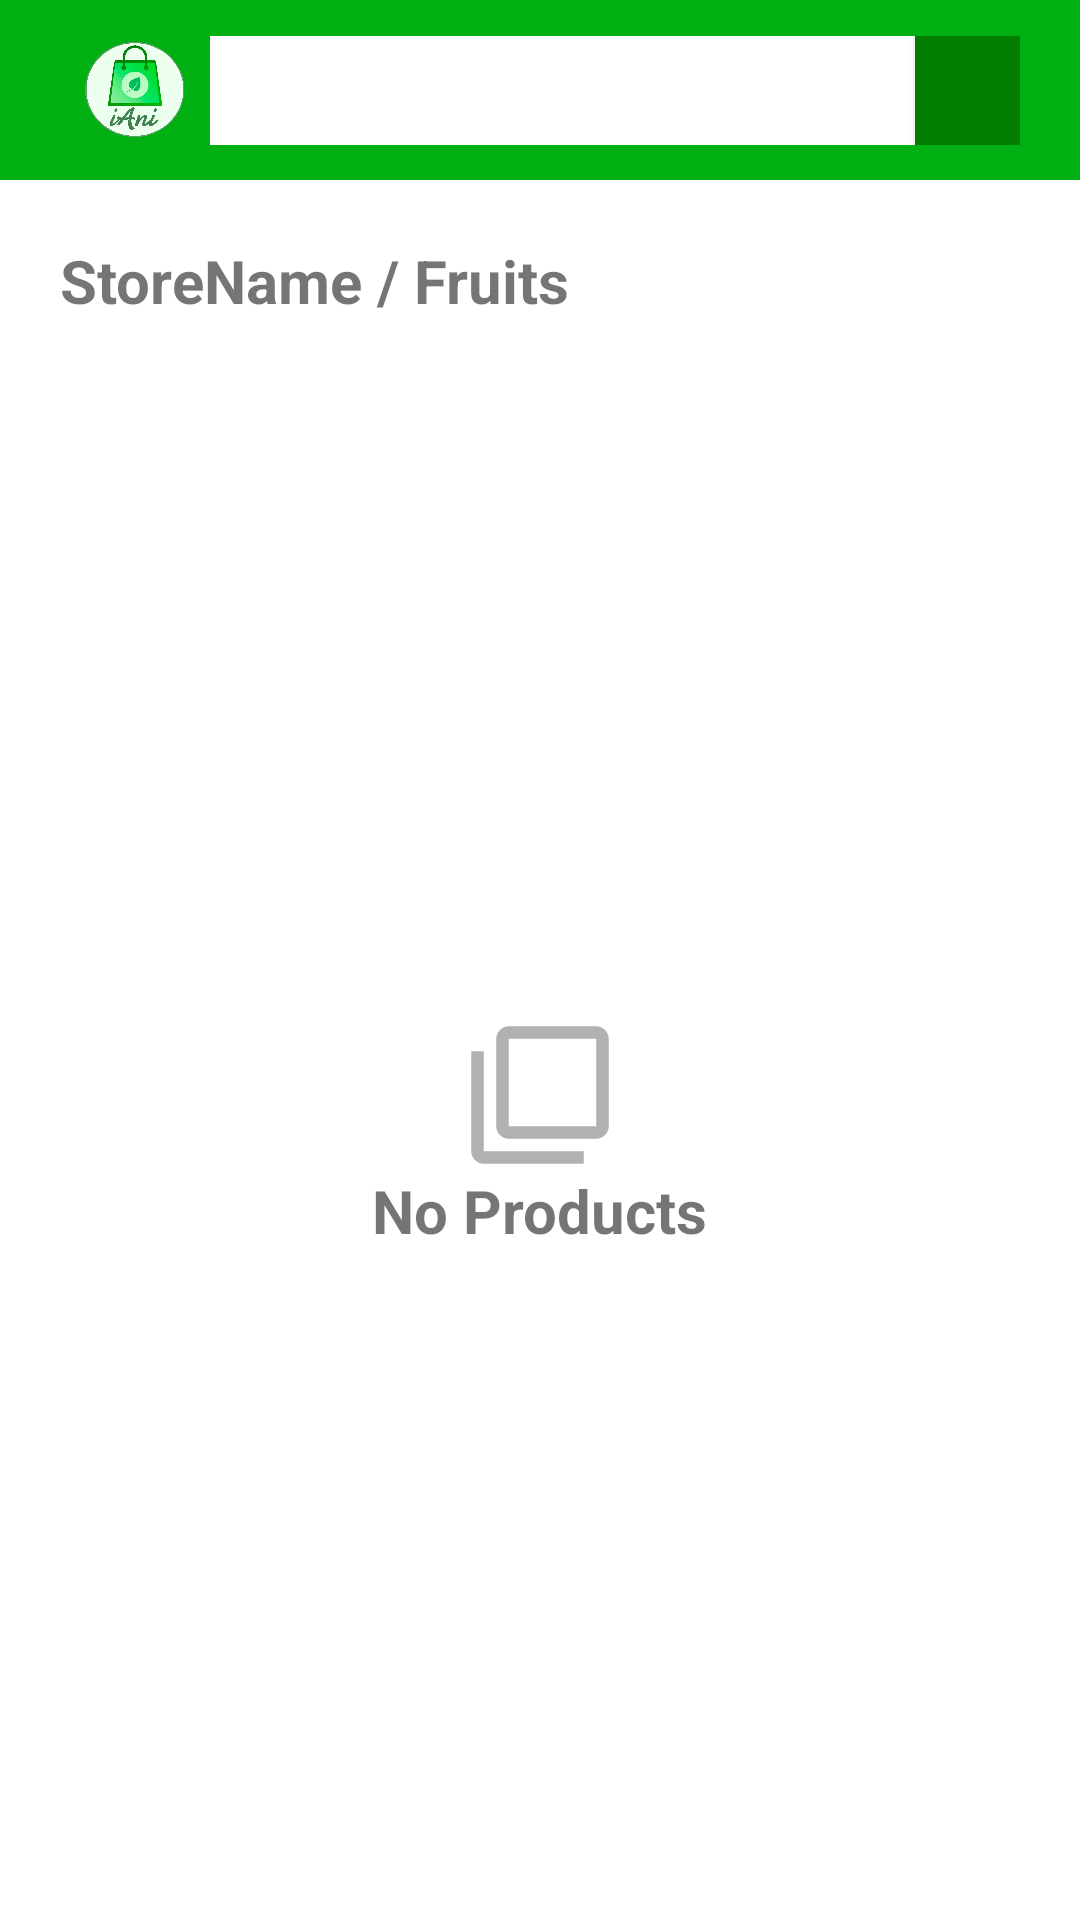

Screen size 1080*1920. Icon name, then its center in pixels as point (x, y):
filter none: point (540, 1095)
